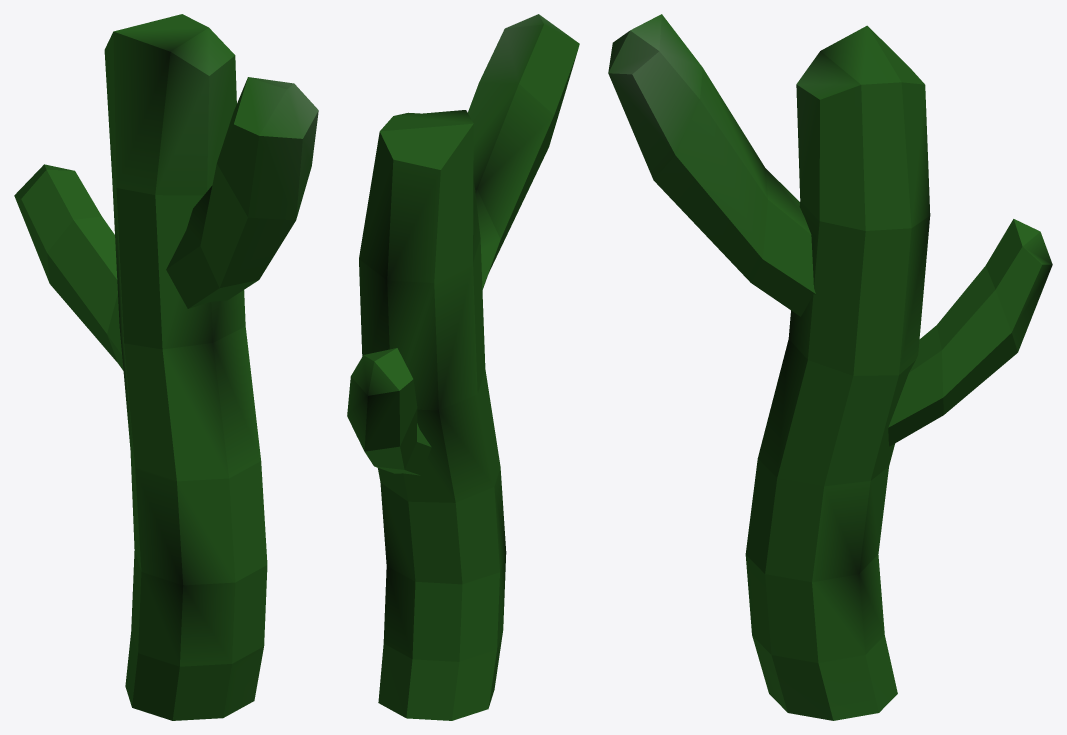
File: Cacto3.fbx
3 views of the same model, side by side, from view 1: azimuth 30°, elevation 25°; view 2: azimuth 150°, elevation 25°; view 3: azimuth 270°, elevation 25° (orthographic). The views are drawn at different scales.
Visible parts, largest first — view 1: LOD_0; view 2: LOD_0; view 3: LOD_0.
Boxes of the visible parts, <box> form: LOD_0: <box>14,14,318,720</box>; LOD_0: <box>347,14,579,720</box>; LOD_0: <box>608,14,1052,720</box>.
Size of what is drawn, in the model's own units: 86.56 by 426 by 258.
